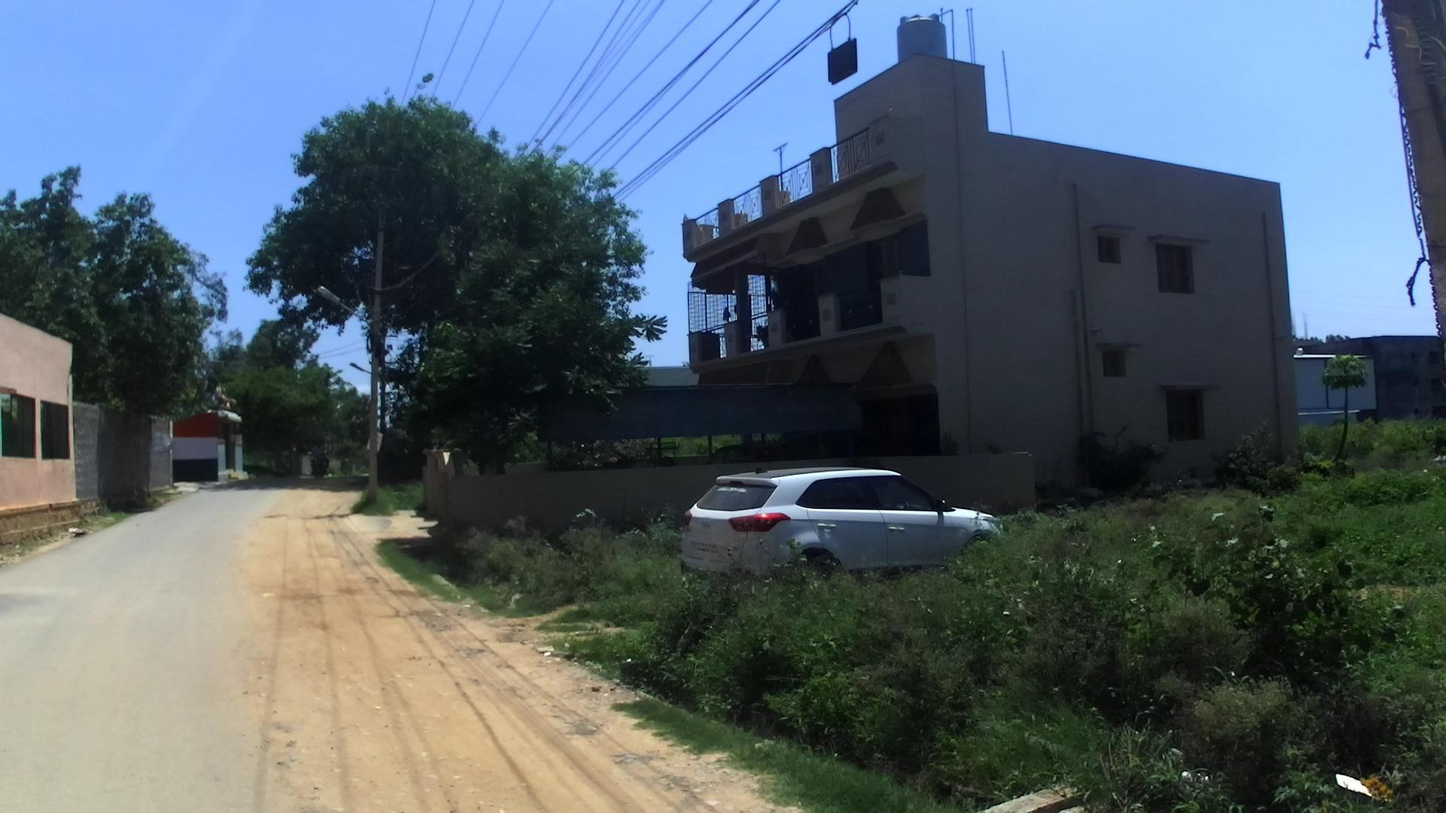streetlight: (317, 286, 381, 354), (349, 362, 371, 373)
